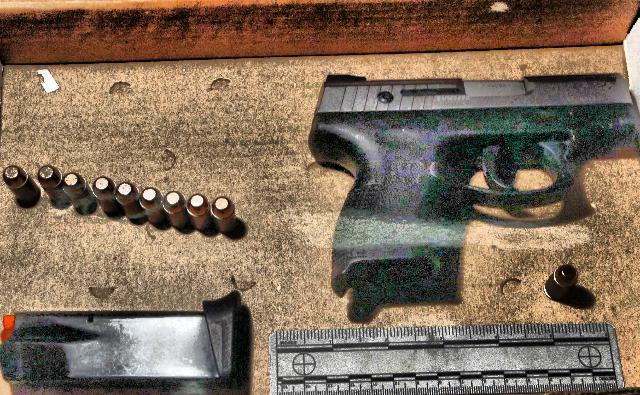pistol: (298, 67, 632, 282)
